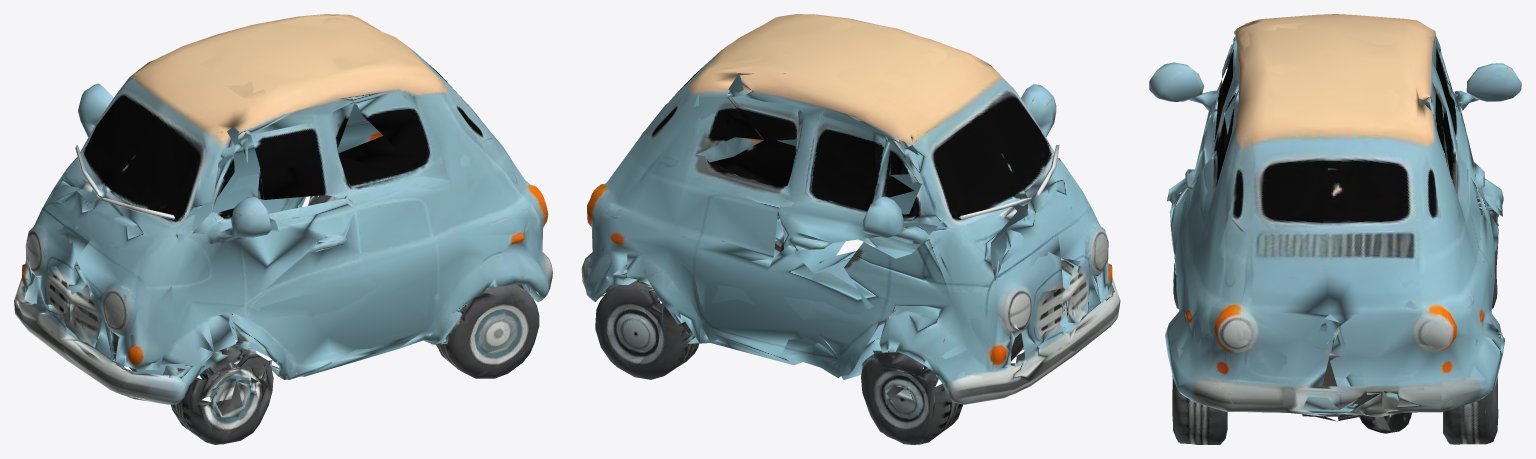
The model's file is car_b.glb.
3 views of the same model, side by side, from view 1: azimuth 30°, elevation 25°; view 2: azimuth 150°, elevation 25°; view 3: azimuth 270°, elevation 25° (orthographic). The views are drawn at different scales.
Visible parts, largest first — view 1: Mesh1.0; view 2: Mesh1.0; view 3: Mesh1.0.
Part boxes in pixels (<box>): Mesh1.0: <box>14,14,552,444</box>; Mesh1.0: <box>581,14,1120,444</box>; Mesh1.0: <box>1149,14,1521,444</box>.
Size of the model in its own units: 1.89 by 1.27 by 1.32.
1 material, 1 textured.
